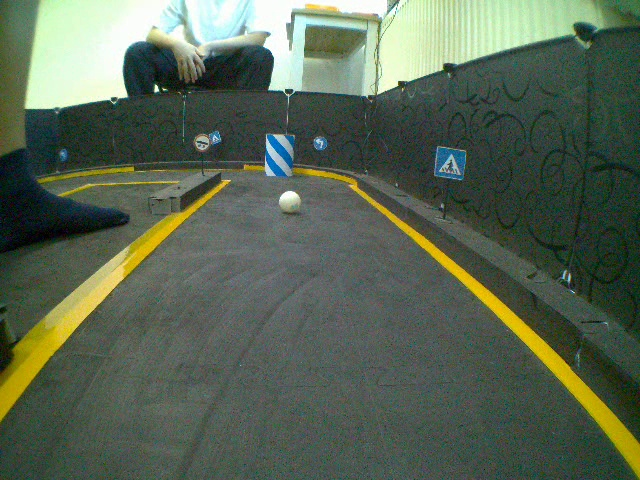ball: (278, 189, 303, 217)
bucket: (263, 131, 297, 181)
